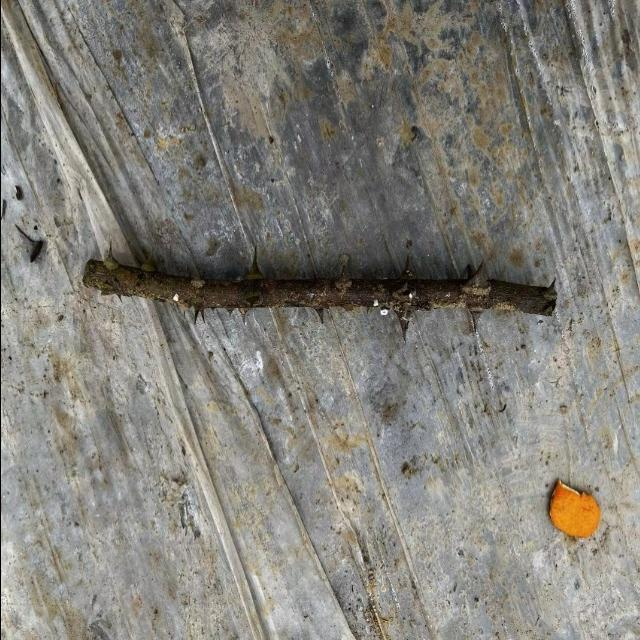branch: (80, 259, 554, 320)
